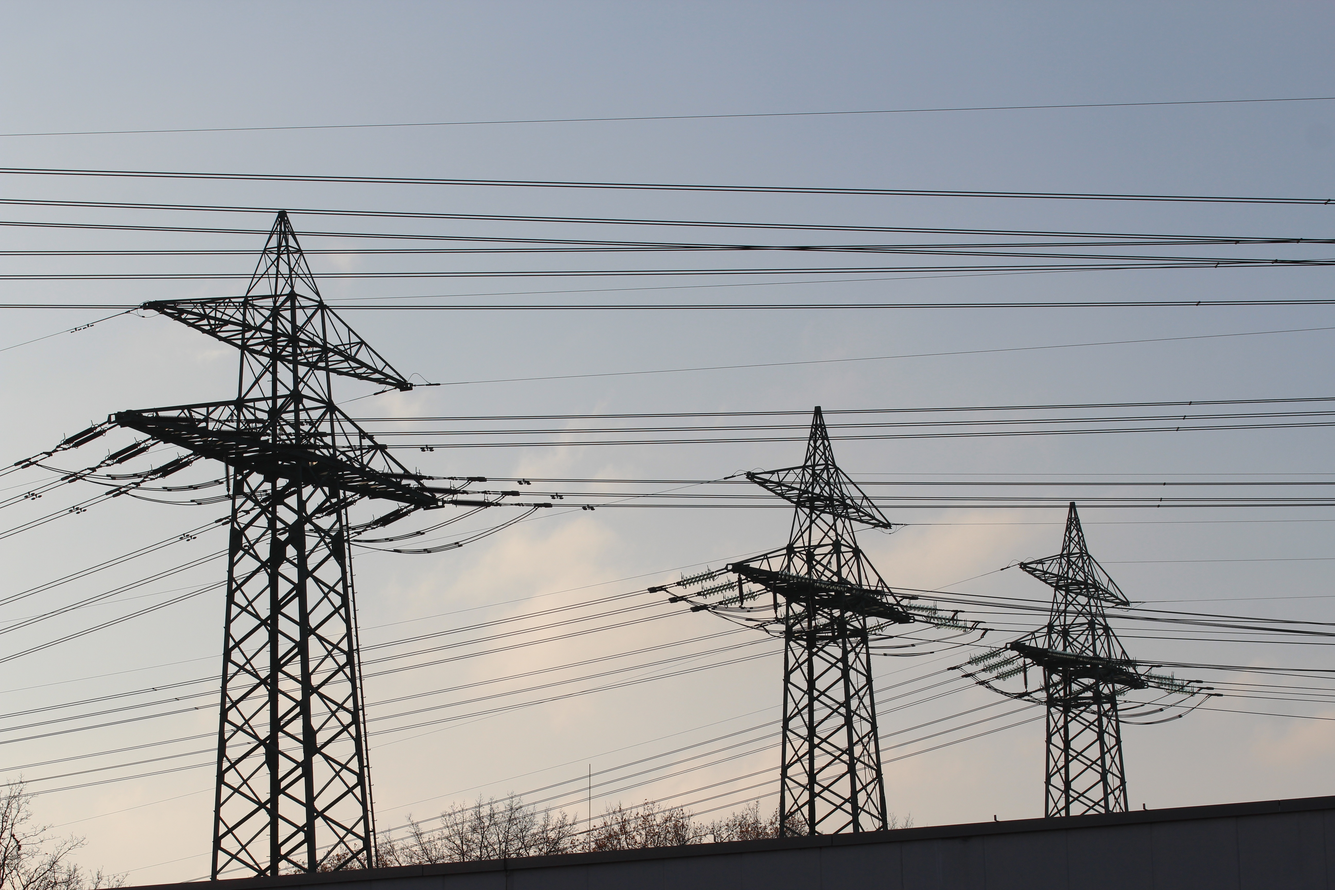insulator: (1127, 670, 1207, 698), (709, 587, 759, 610), (101, 443, 148, 466), (675, 562, 715, 589), (972, 650, 1008, 679), (59, 427, 111, 447), (137, 461, 191, 480), (962, 642, 1002, 667), (698, 575, 733, 603), (373, 470, 441, 483), (446, 499, 505, 513), (984, 665, 1028, 683)
